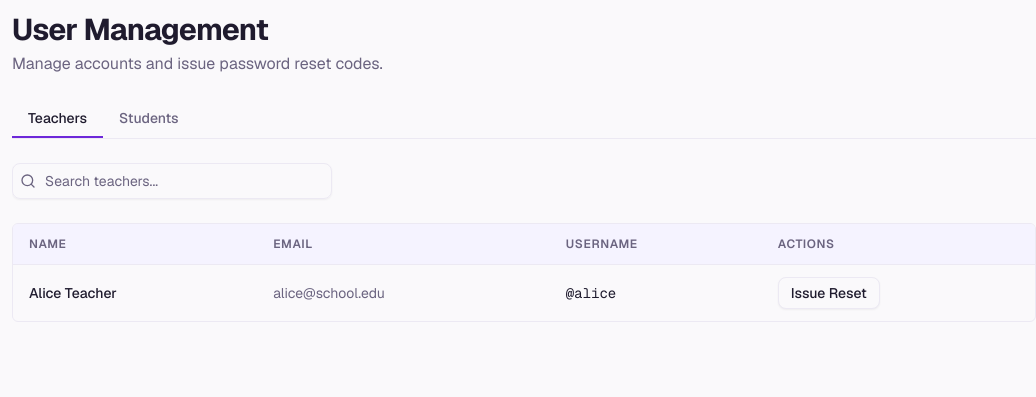
StaffManagementView › filters students by search
The width and height of the screenshot is (1036, 397).
Expected: the text "Alice Teacher" is shown, [13,264,257,321]
Click the button "Students" at (149, 119), box [103,100,195,138]
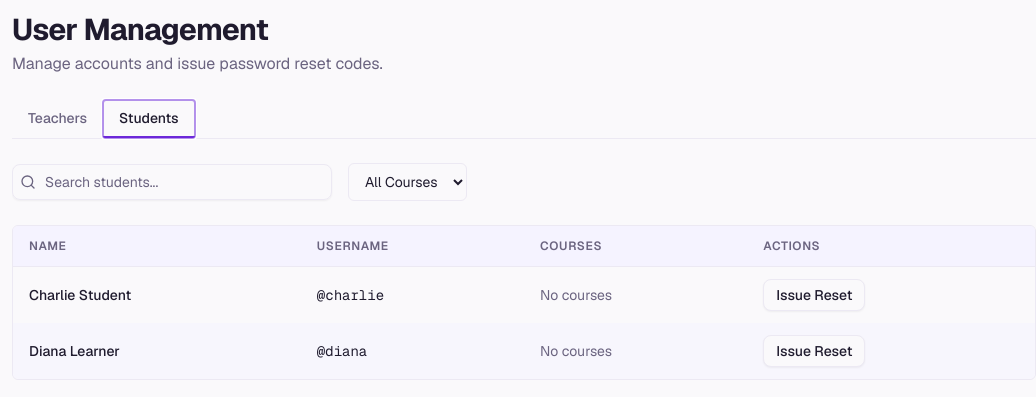
Expected: the text "Charlie Student" is shown, [13,266,301,323]
Expected: the text "Diana Learner" is shown, [13,323,301,379]
Type "diana" into the field with placeholder "Search students..." at (172, 182), box [12,164,332,200]
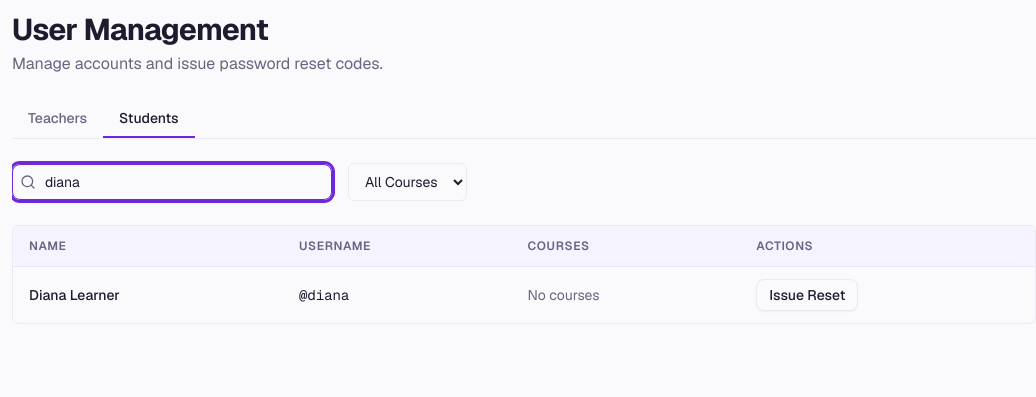
Expected: the text "Diana Learner" is shown, [13,266,283,323]
Expected: the text "Charlie Student" is gone
